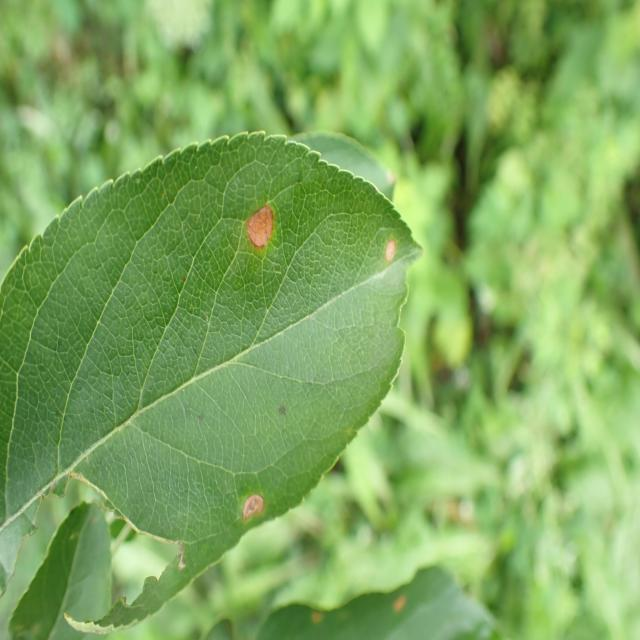Black Rot: (241, 190, 277, 290), (232, 456, 267, 537), (371, 228, 412, 280)
